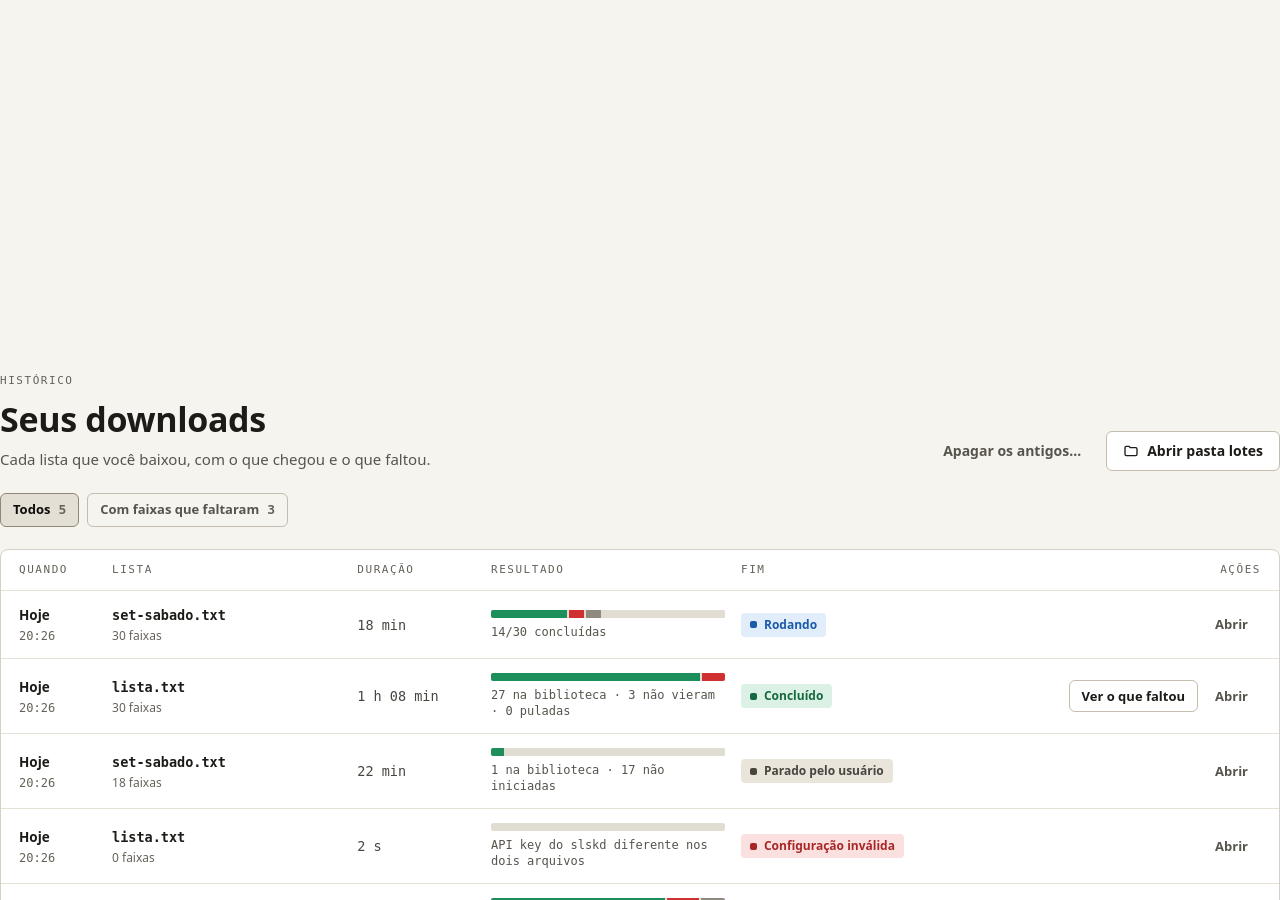
Test: tela Histórico › Apagar execuções antigas… › mostra o que vai sair antes de mandar para a Lixeira, e só apaga depois da confirmação
(page scrolled)
Click the button "Apagar os antigos…" at x=1012, y=450, box [926,430,1098,470]
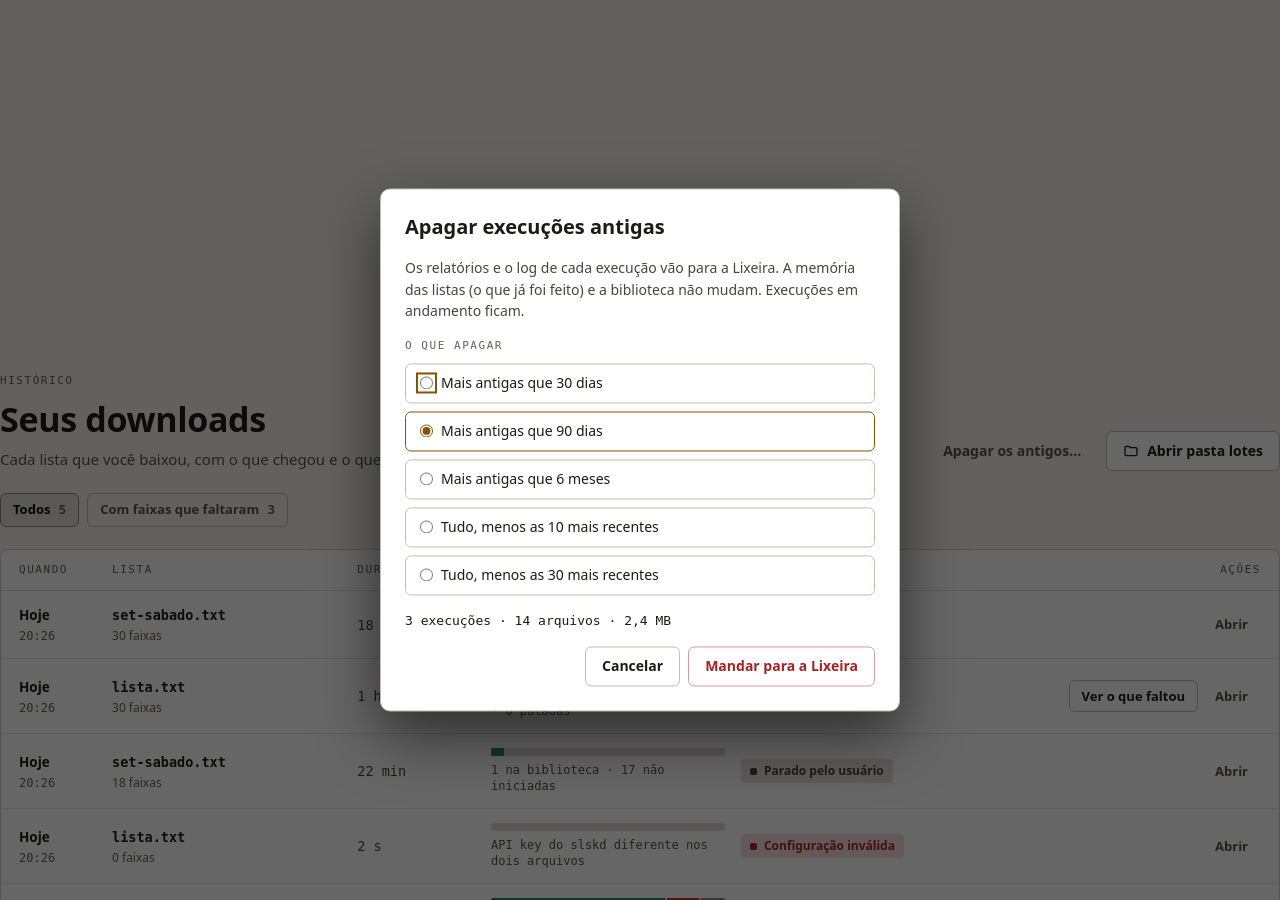
Expected: the message with test id "previa-limpeza" reads "3 execuções · 14 arquivos · 2,4 MB", [405,613,671,628]
Note: muda o critério: a prévia é refeita
Click the radio button labelled "Tudo, menos as 10 mais recentes" at x=426, y=527, box [420,520,433,534]
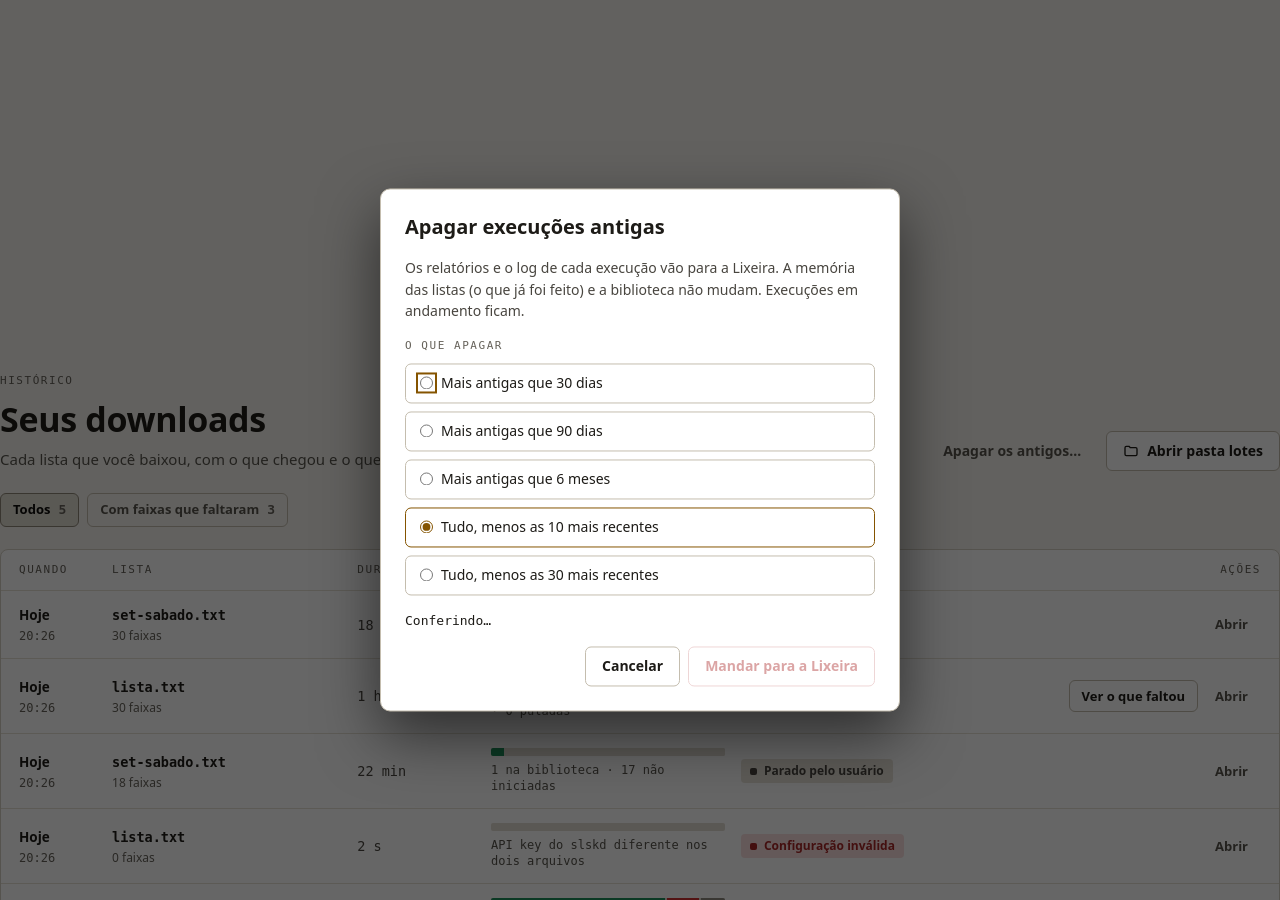
Click the radio button labelled "Mais antigas que 90 dias" at x=426, y=431, box [420,424,433,438]
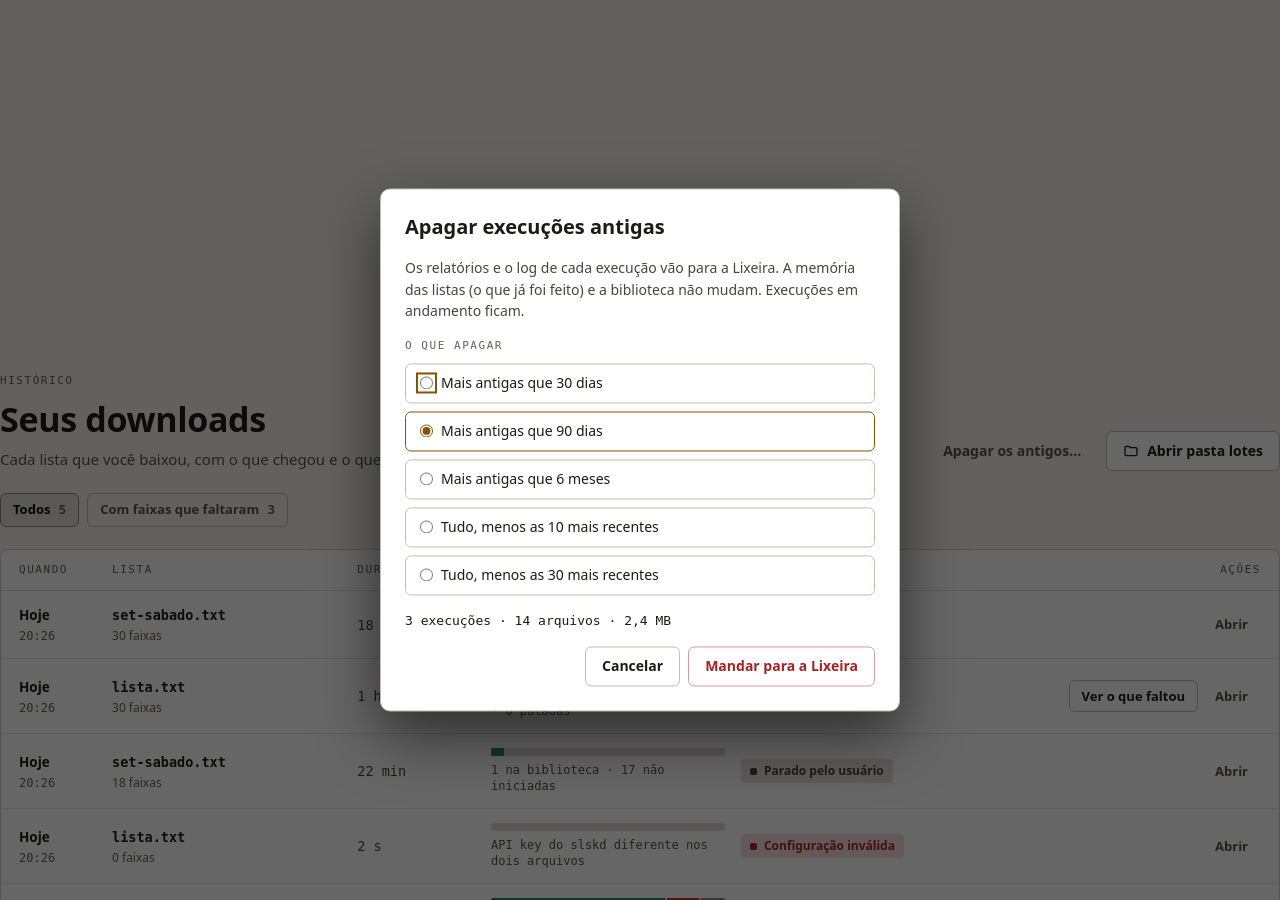
Expected: the message with test id "previa-limpeza" shows "3 execuções", [405,613,671,628]
Click the button with test id "confirmar-limpeza" at x=782, y=666, box [688,646,875,686]
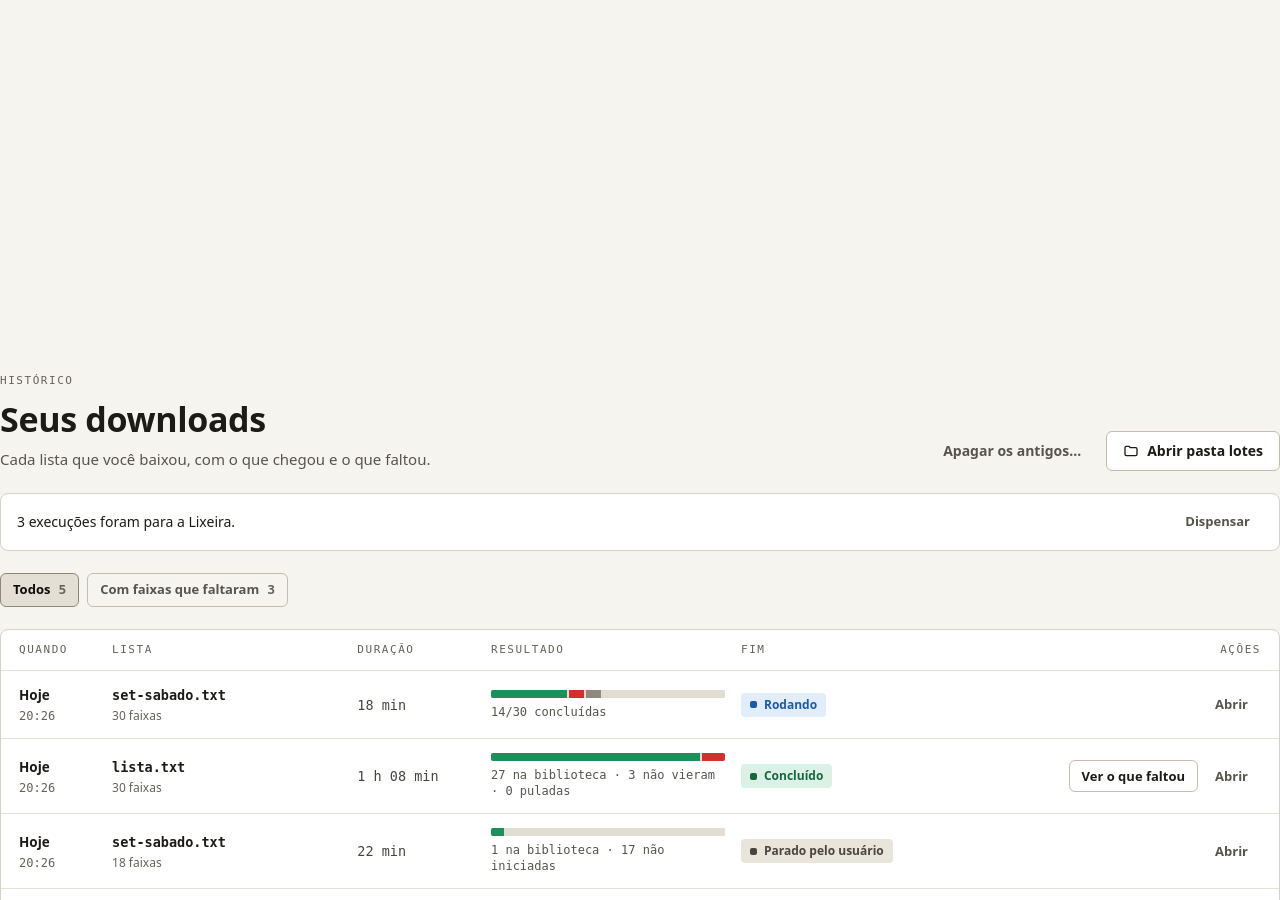
Expected: the message with test id "aviso-historico" shows "3 execuções foram para a Lixeira", [17,512,235,530]
Expected: the dialog with test id "dialogo-limpeza" is gone
